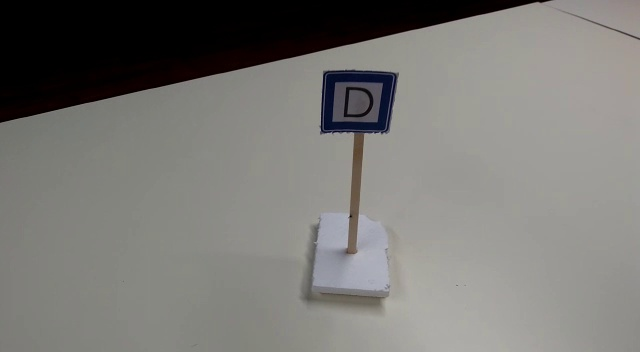durak: (321, 68, 396, 136)
